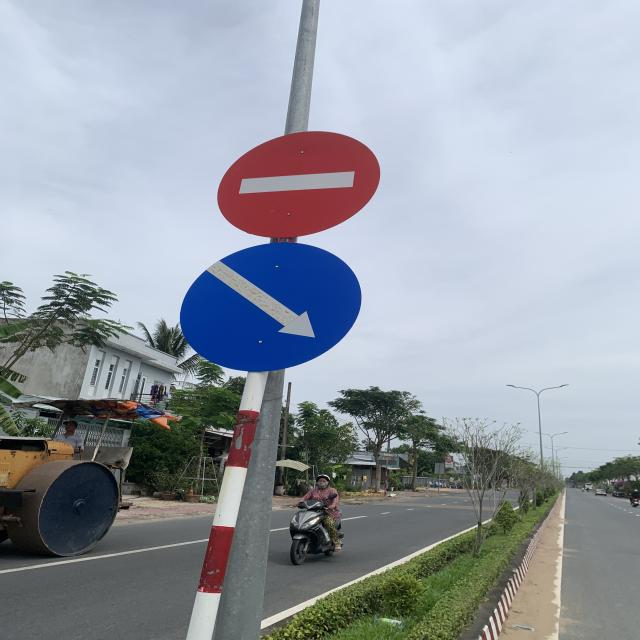Cam_Di_Nguoc_Chieu: (214, 131, 382, 237)
Chi_Huong_Di_Phai: (180, 241, 360, 371)
